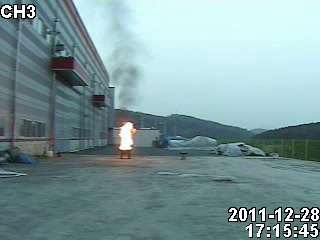fire: (117, 122, 135, 152)
